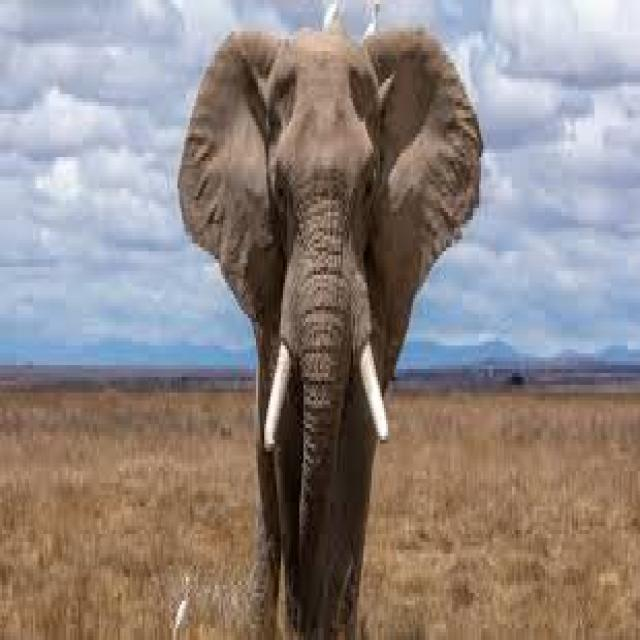Elephant: (176, 8, 483, 636)
